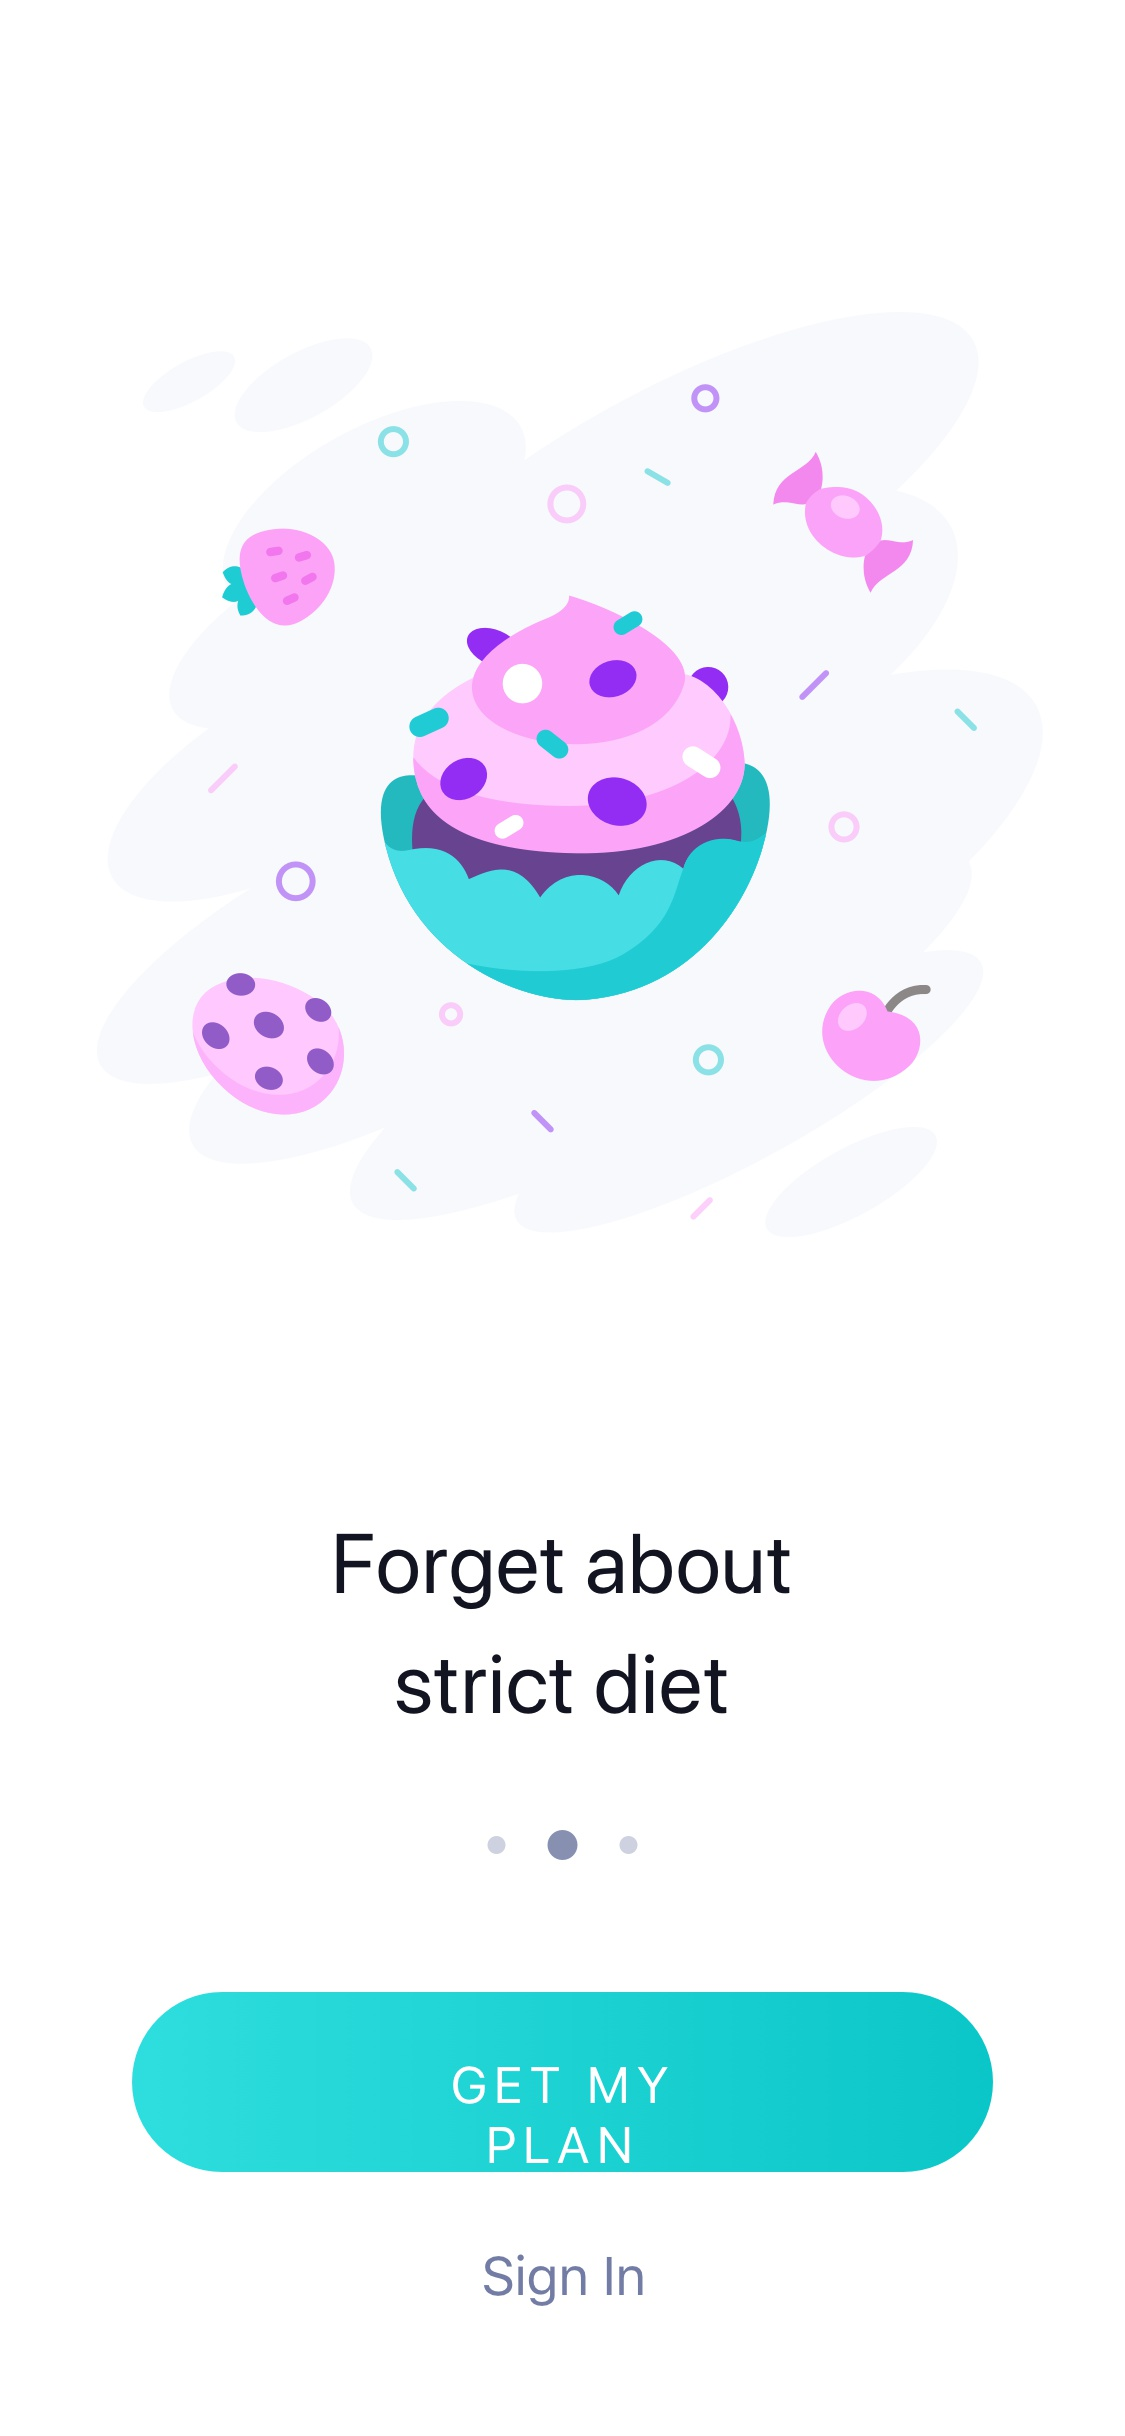Image: (96, 308, 1046, 1244)
PageIndicator: (486, 1829, 640, 1863)
Text: (336, 1530, 792, 1717), (483, 2253, 645, 2307)
TextButton: (132, 1992, 993, 2173)
